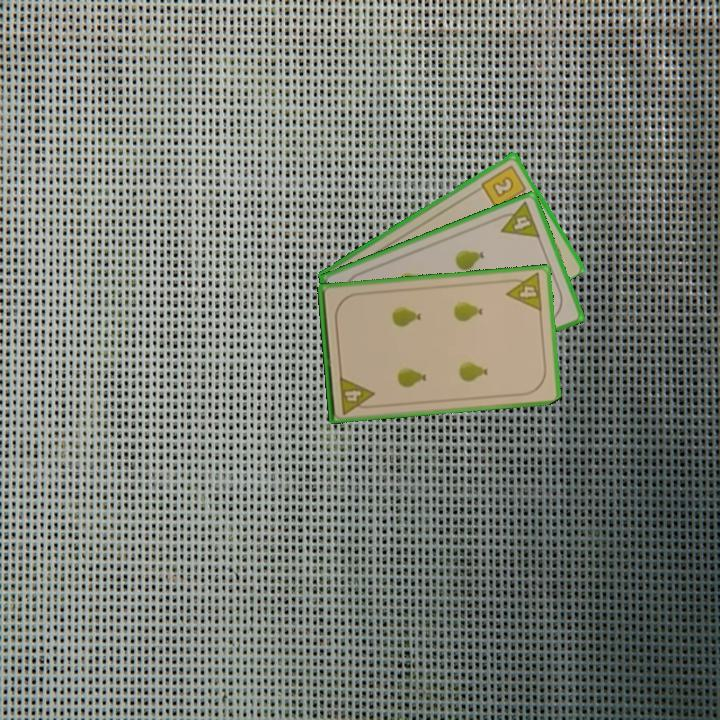2b: (478, 161, 529, 210)
4p: (493, 198, 543, 241), (502, 270, 545, 314), (336, 372, 377, 417)
